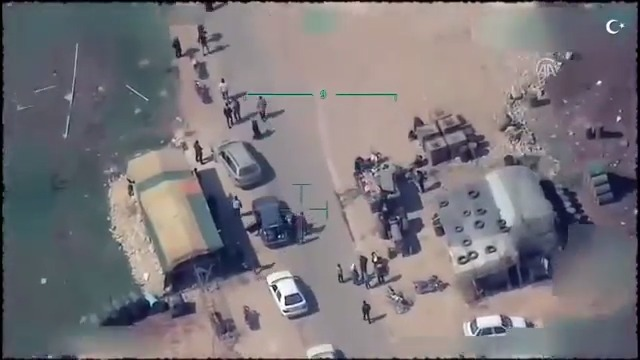arac: (264, 266, 311, 323), (248, 188, 293, 247), (460, 308, 535, 341), (215, 133, 259, 188)
bina: (427, 161, 568, 297), (127, 132, 231, 288)
insan: (371, 247, 389, 287), (356, 252, 375, 282), (217, 74, 235, 105), (254, 93, 274, 119), (229, 185, 244, 216), (356, 297, 371, 326), (193, 133, 206, 164), (173, 34, 185, 58), (335, 261, 346, 282), (349, 261, 359, 284)
